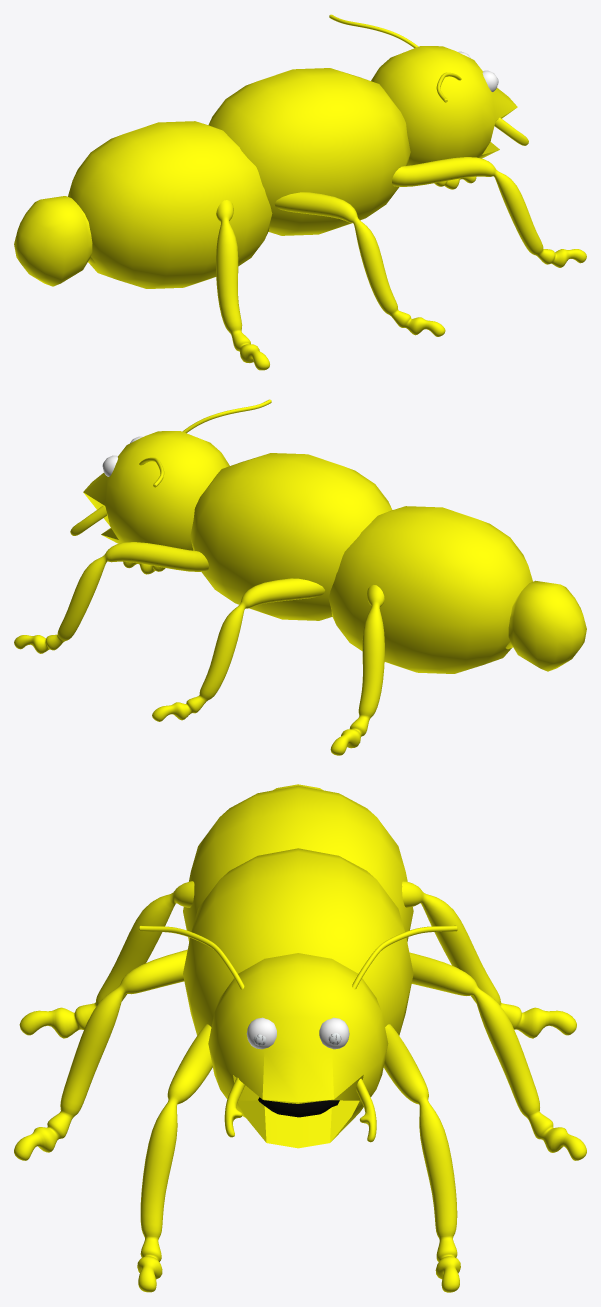
File: pet-durmite.glb
The picture shows the model from 3 angles, top to bottom: view 1: azimuth 30°, elevation 25°; view 2: azimuth 150°, elevation 25°; view 3: azimuth 270°, elevation 25°; orthographic projection. The views are drawn at different scales.
Size of the model in its own units: 0.1201 by 0.0451 by 0.0844.
Materials: 4 (1 with a texture image).
